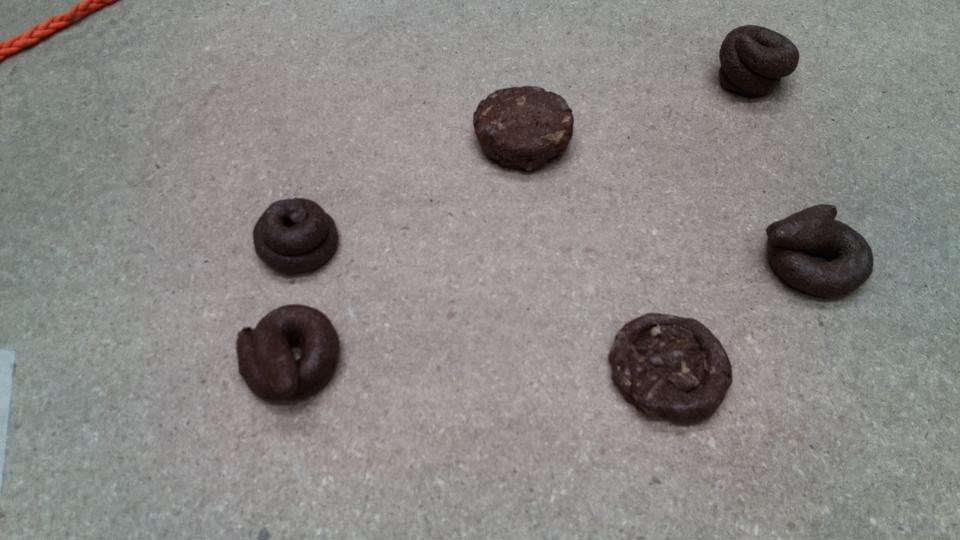poop: (607, 310, 736, 426), (762, 201, 879, 305), (233, 301, 346, 408), (471, 74, 582, 182), (249, 194, 345, 280), (713, 22, 802, 106)
